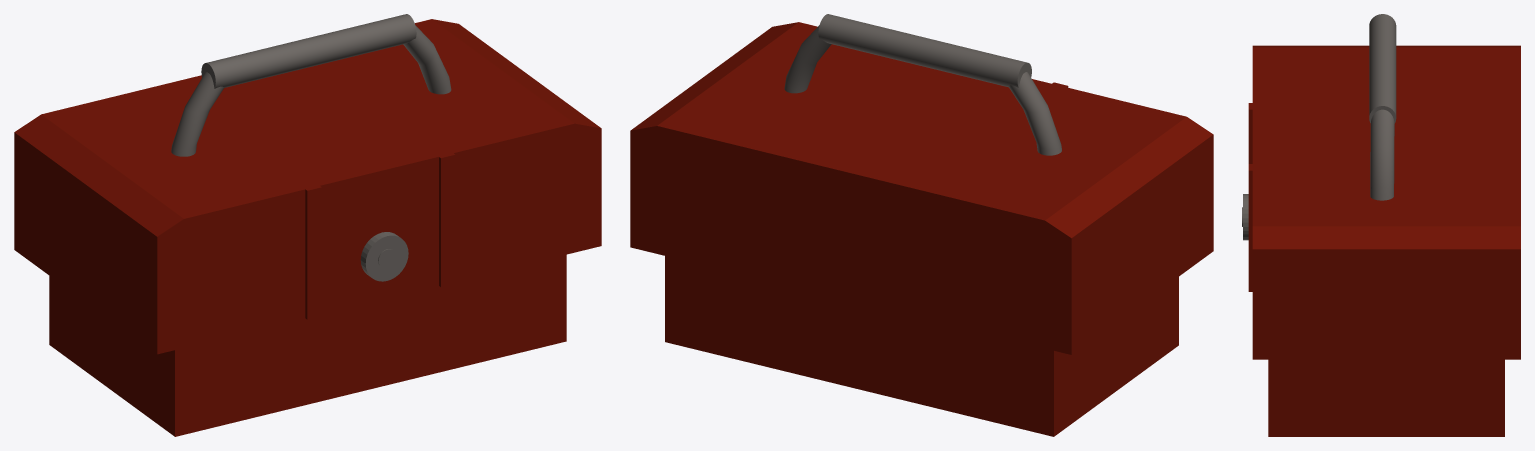
Rendered from healingbox.fbx.
3 views of the same model, side by side, from view 1: azimuth 30°, elevation 25°; view 2: azimuth 150°, elevation 25°; view 3: azimuth 270°, elevation 25° (orthographic). The views are drawn at different scales.
Visible parts, largest first — view 1: healingbox; view 2: healingbox; view 3: healingbox.
Boxes of the visible parts, bbox=[...] form: healingbox: bbox=[14, 14, 601, 436]; healingbox: bbox=[630, 14, 1213, 436]; healingbox: bbox=[1242, 14, 1520, 436].
Bounding box in the file's own units: 359 × 236 × 208.
